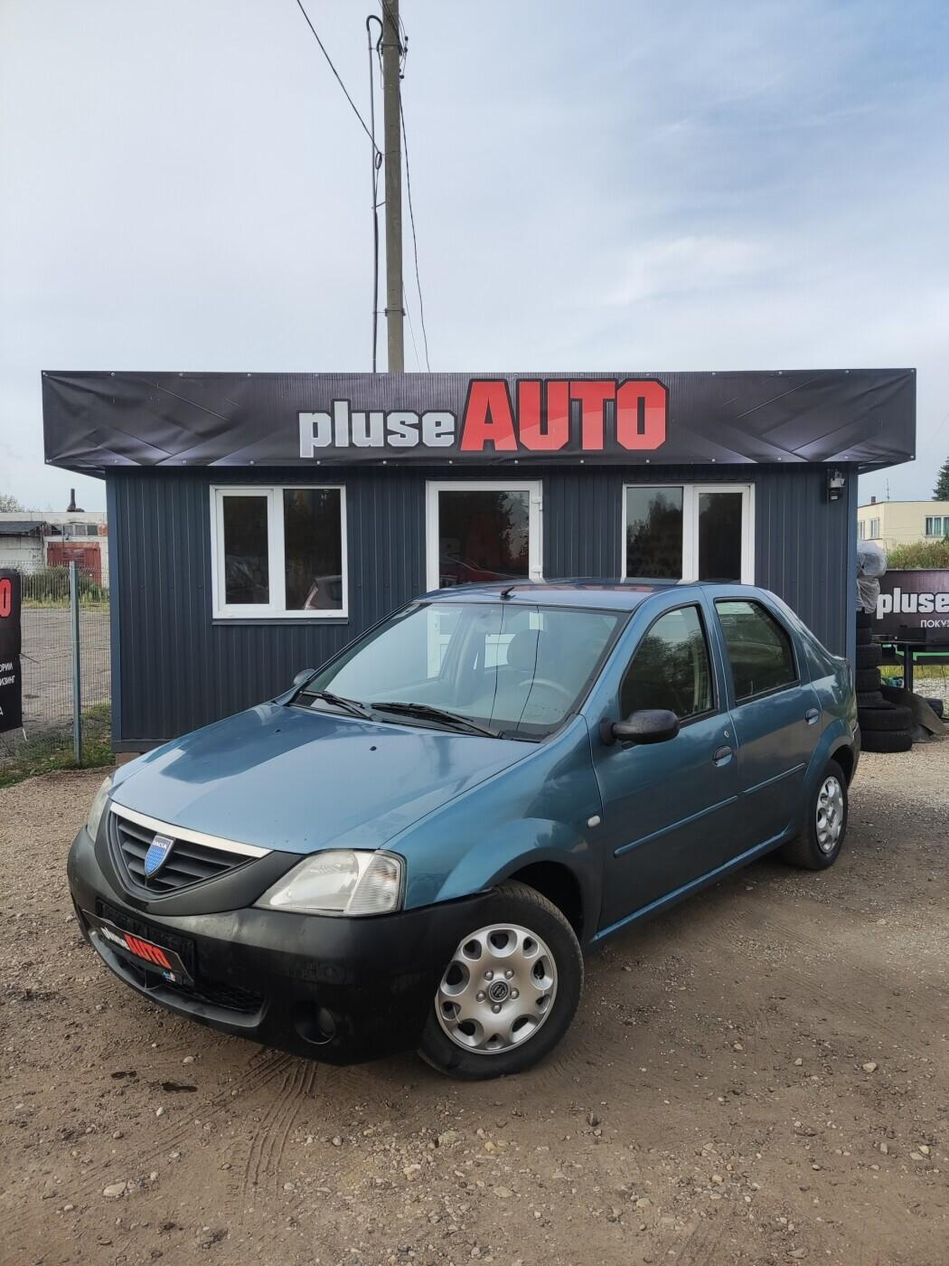Logan_2004-2009: (52, 575, 869, 1091)
